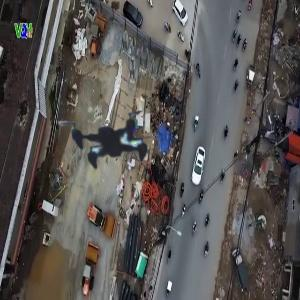drone: (38, 68, 186, 216)
